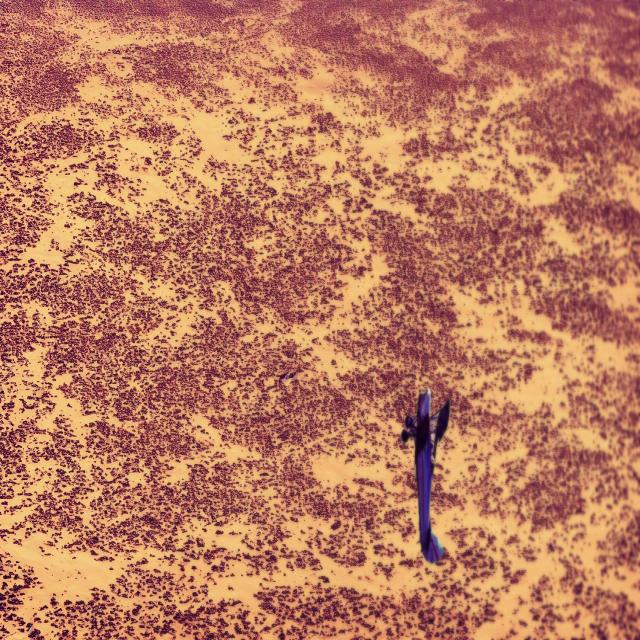airplane: (401, 388, 450, 564)
